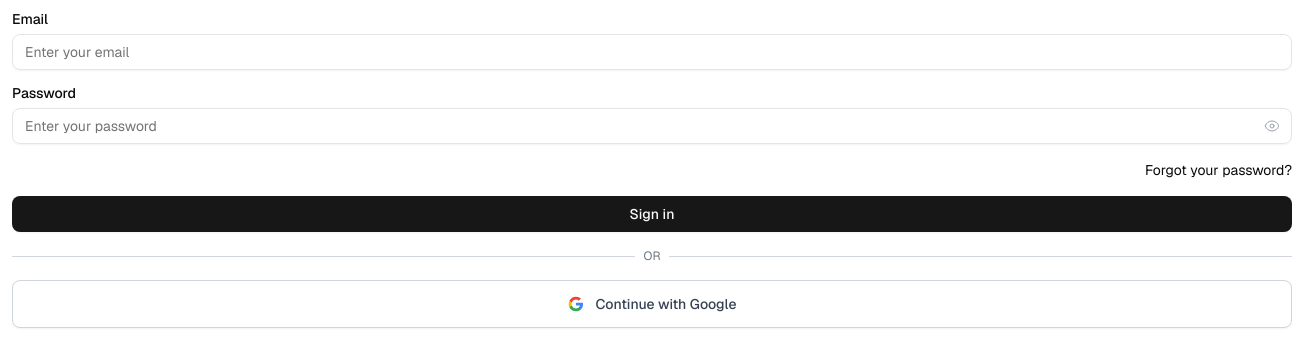
Test: SignInForm Component › Form Submission › disables inputs during submission
This screenshot has width=1304, height=345.
Type "test@example.com" into the field labelled "Email" at (652, 52), box [12,34,1292,70]
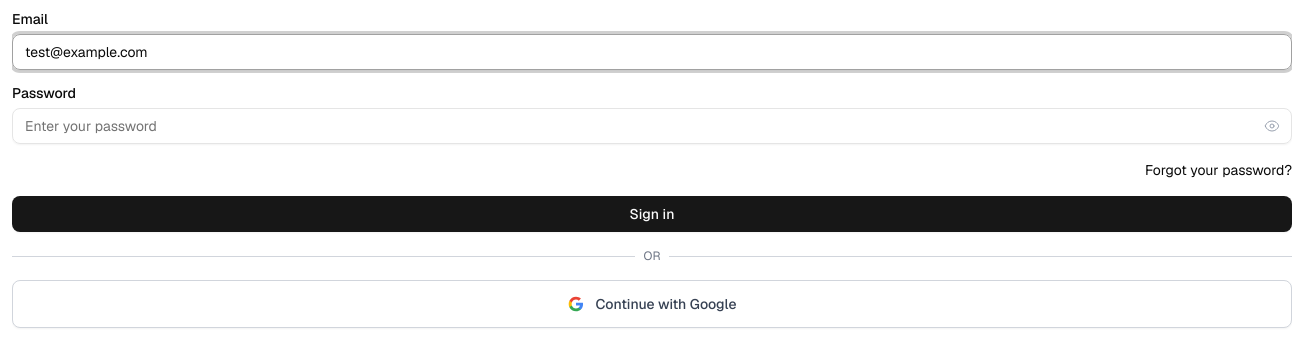
Type "password123" into the password field labelled "Password" at (652, 126), box [12,108,1292,144]
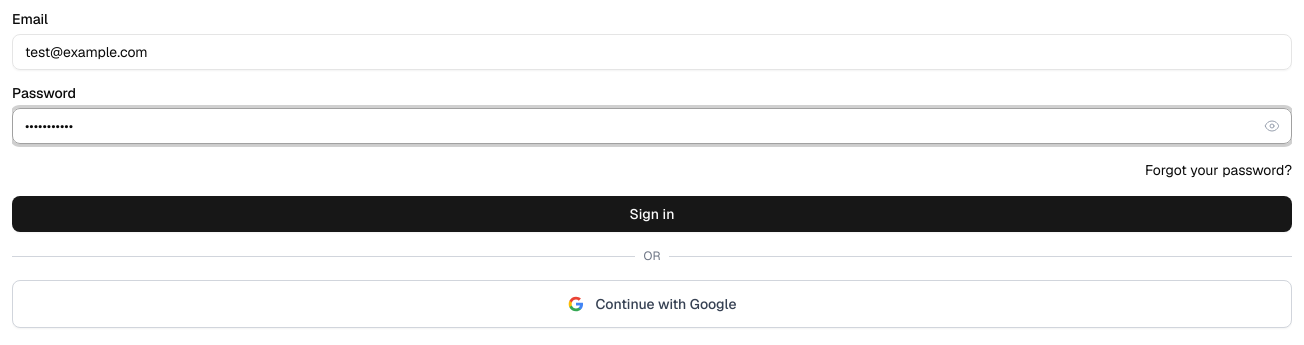
Click the button "Sign in" at (652, 214), box [12,196,1292,232]
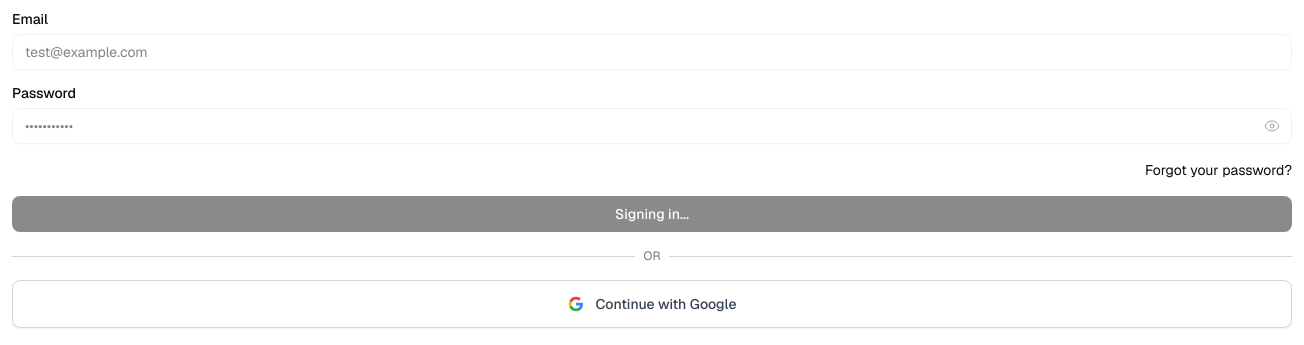
Now the field labelled "Email" is disabled, box [12,34,1292,70]
Now the password field labelled "Password" is disabled, box [12,108,1292,144]
